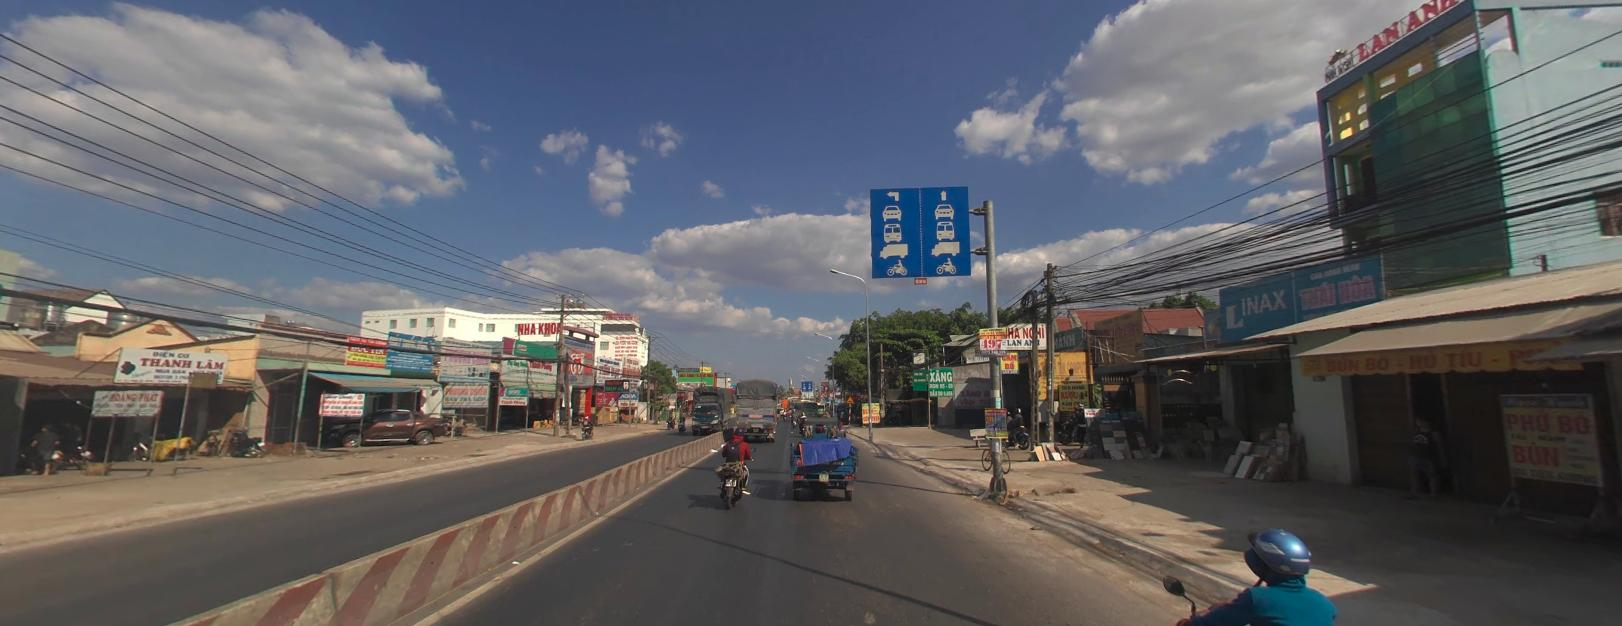Nguy hiem: (845, 393, 855, 401), (845, 394, 854, 403)
